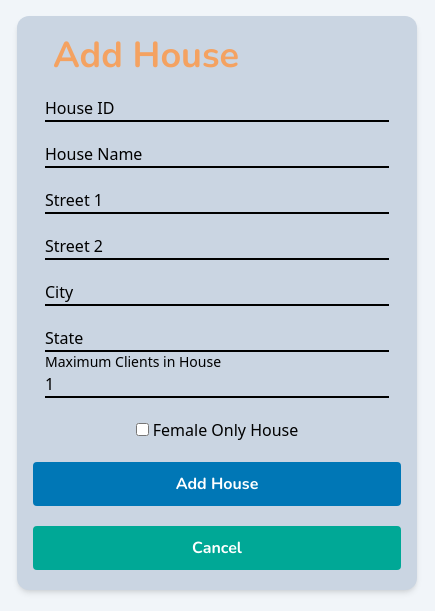
Scenario: Add House › should have an error if the max clients field is less than 1
Replace the text in the number field labelled "Maximum Clients in House" with "-11" at (217, 385), box [45, 372, 389, 398]
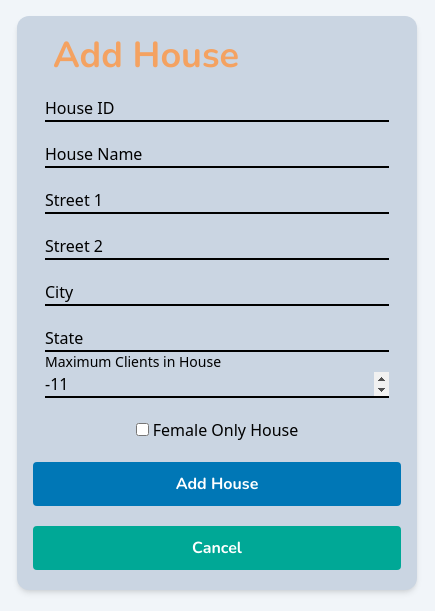
Click the button "Add House" at (217, 484), box [33, 462, 401, 506]
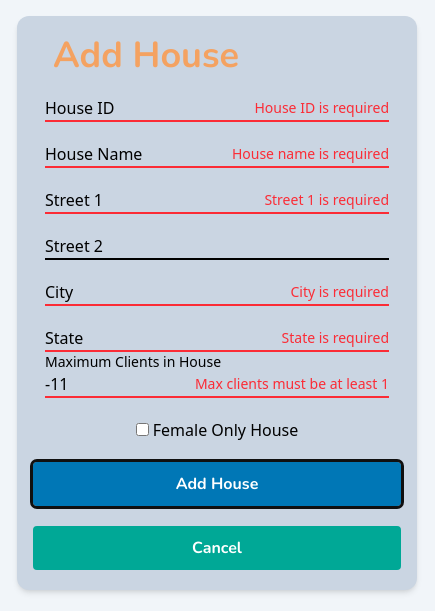
Expected: the text "Max clients must be at least 1" is shown, [195, 374, 389, 394]
